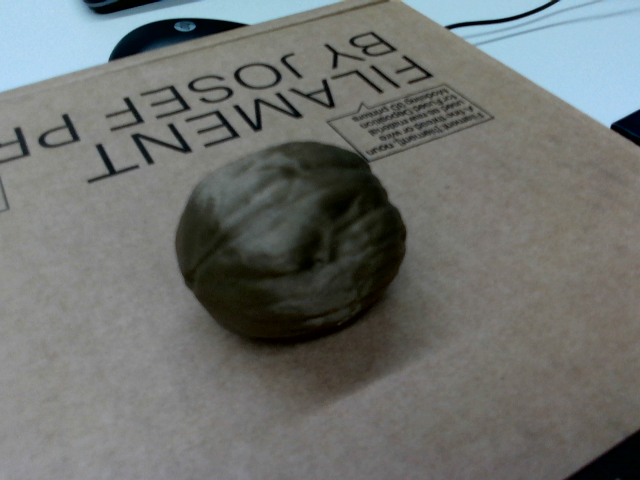walnut: (144, 100, 433, 383)
